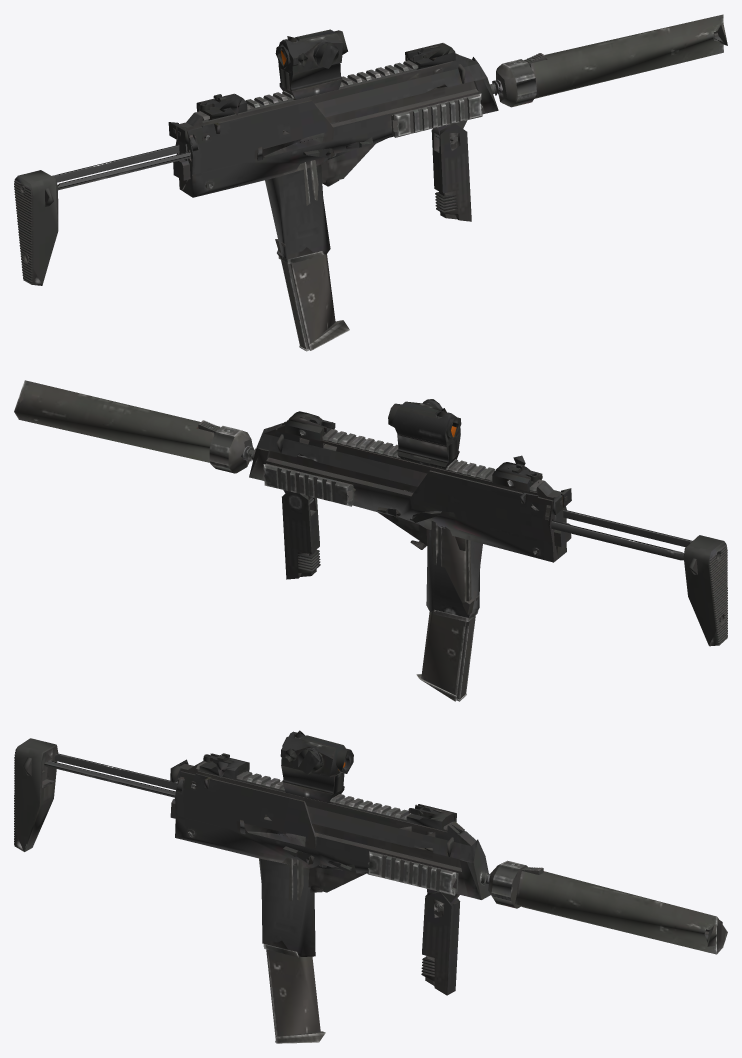
3 renders of one model, top to bottom at view 1: azimuth 30°, elevation 25°; view 2: azimuth 150°, elevation 25°; view 3: azimuth 330°, elevation 25°, orthographic.
Parts seen in each view (by area): view 1: base_2, silencer, mag, stock, sight, base, foregrip, stock_2, base_3; view 2: base_2, silencer, mag, stock, sight, base, foregrip, stock_2, base_3; view 3: base_2, silencer, mag, sight, stock, base, foregrip, stock_2, base_3.
Part boxes in pixels (x1,y1,x2,y2): base_2: (173, 53, 498, 260); silencer: (496, 14, 727, 107); mag: (278, 160, 349, 351); stock: (14, 137, 198, 285); sight: (275, 29, 347, 99); base: (196, 60, 482, 137); foregrip: (431, 123, 471, 221); stock_2: (52, 121, 338, 190); base_3: (196, 43, 502, 148); base_2: (249, 421, 571, 617); silencer: (14, 380, 252, 473); mag: (416, 521, 478, 701); stock: (683, 535, 727, 646); sight: (388, 399, 461, 469); base: (263, 429, 550, 519); foregrip: (282, 491, 319, 579); stock_2: (404, 490, 692, 560); base_3: (241, 411, 542, 517); base_2: (170, 761, 490, 956); silencer: (488, 860, 727, 954); mag: (263, 857, 325, 1043); sight: (280, 730, 353, 802); stock: (14, 738, 183, 851); base: (196, 761, 458, 895); foregrip: (422, 892, 460, 995); stock_2: (44, 753, 326, 834); base_3: (199, 753, 490, 885).
Size of the model in its own units: 0.7788 by 0.3201 by 0.0569.
Materials: 3 (3 with a texture image).
